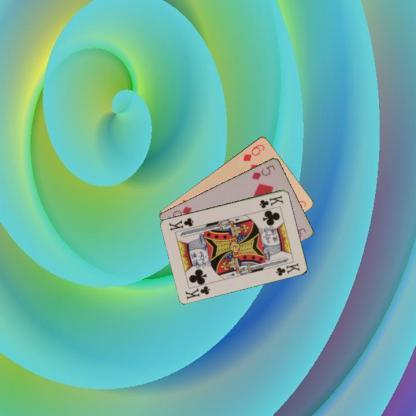5d: (249, 162, 277, 181)
6d: (240, 141, 265, 162)
Kc: (182, 283, 212, 301), (256, 192, 284, 210)
